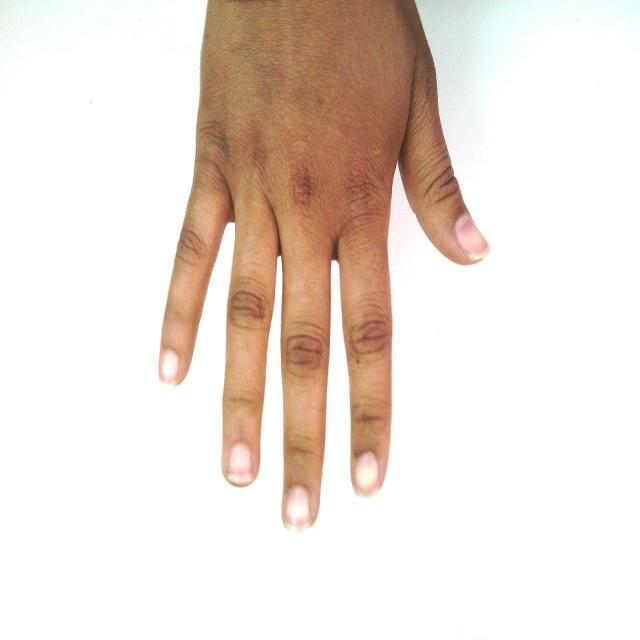Fingernail: (456, 217, 488, 258), (355, 451, 380, 499), (284, 485, 310, 530), (228, 441, 254, 483), (161, 351, 180, 383)
